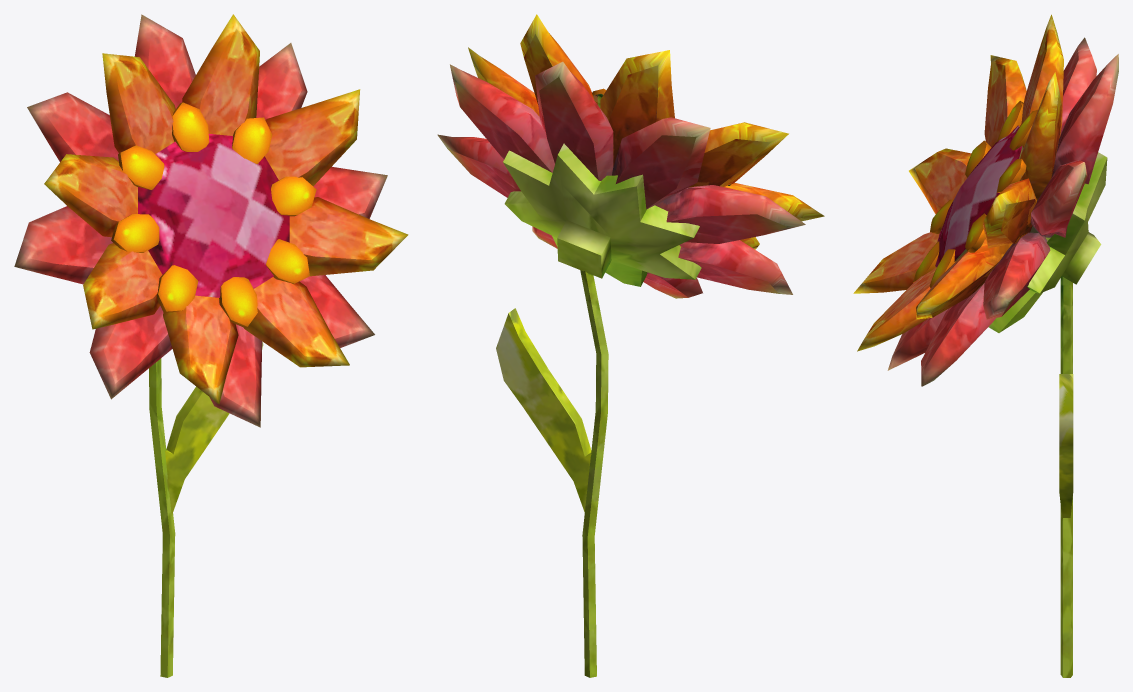
The model's file is botany_100001_02.FBX.
3 views of the same model, side by side, from view 1: azimuth 30°, elevation 25°; view 2: azimuth 150°, elevation 25°; view 3: azimuth 270°, elevation 25° (orthographic). The views are drawn at different scales.
Parts seen in each view (by area): view 1: botany_100001_02; view 2: botany_100001_02; view 3: botany_100001_02.
Part boxes in pixels (x1=…): botany_100001_02: x1=14, y1=14, x2=408, y2=677; botany_100001_02: x1=437, y1=14, x2=824, y2=677; botany_100001_02: x1=853, y1=14, x2=1118, y2=677.
Bounding box in the file's own units: 53.67 × 89.29 × 34.
